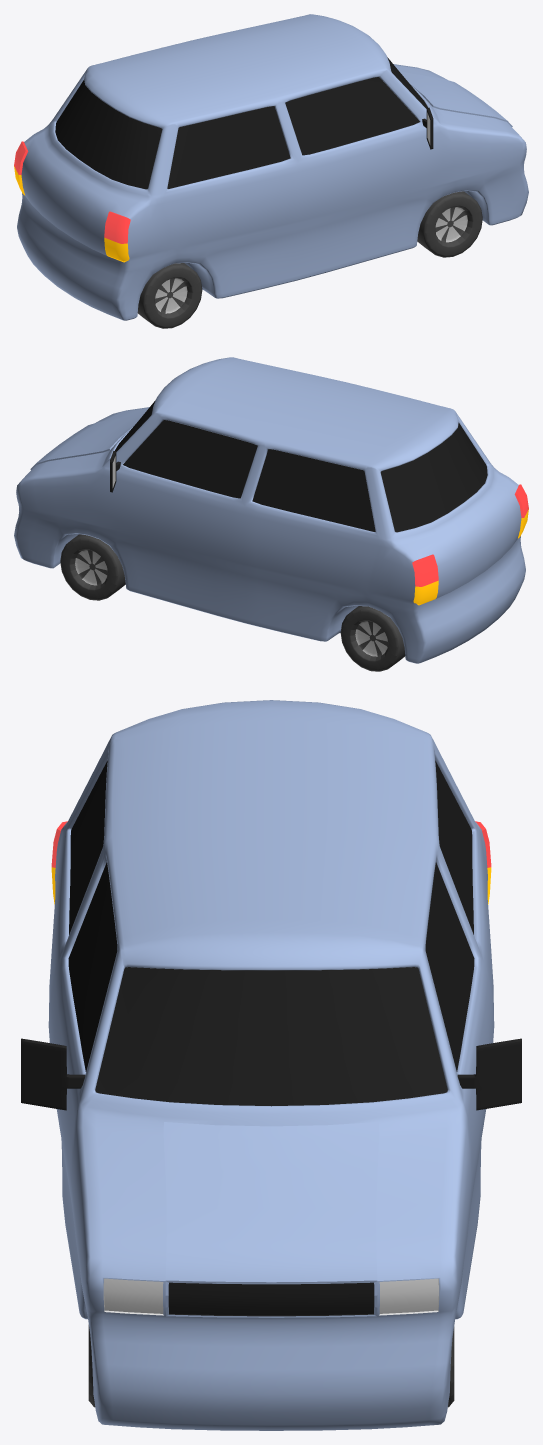
File: Car.fbx
The picture shows the model from 3 angles, top to bottom: view 1: azimuth 30°, elevation 25°; view 2: azimuth 150°, elevation 25°; view 3: azimuth 270°, elevation 25°; orthographic projection. The views are drawn at different scales.
Visible parts, largest first — view 1: car_body, windscreens, r_front_tyre, r_back_tyre; view 2: car_body, windscreens, l_front_tyre, l_back_tyre; view 3: car_body, windscreens, side_mirrors.
Boxes of the visible parts, bbox=[...] form: car_body: bbox=[14, 14, 528, 320]; windscreens: bbox=[55, 57, 428, 189]; r_front_tyre: bbox=[417, 191, 482, 257]; r_back_tyre: bbox=[137, 263, 202, 328]; car_body: bbox=[14, 357, 528, 663]; windscreens: bbox=[115, 400, 487, 532]; l_front_tyre: bbox=[60, 534, 125, 600]; l_back_tyre: bbox=[340, 606, 405, 671]; car_body: bbox=[48, 700, 494, 1430]; windscreens: bbox=[68, 760, 474, 1106]; side_mirrors: bbox=[21, 1038, 521, 1110].
Bounding box in the file's own units: 55.58 × 24.82 × 27.35.
